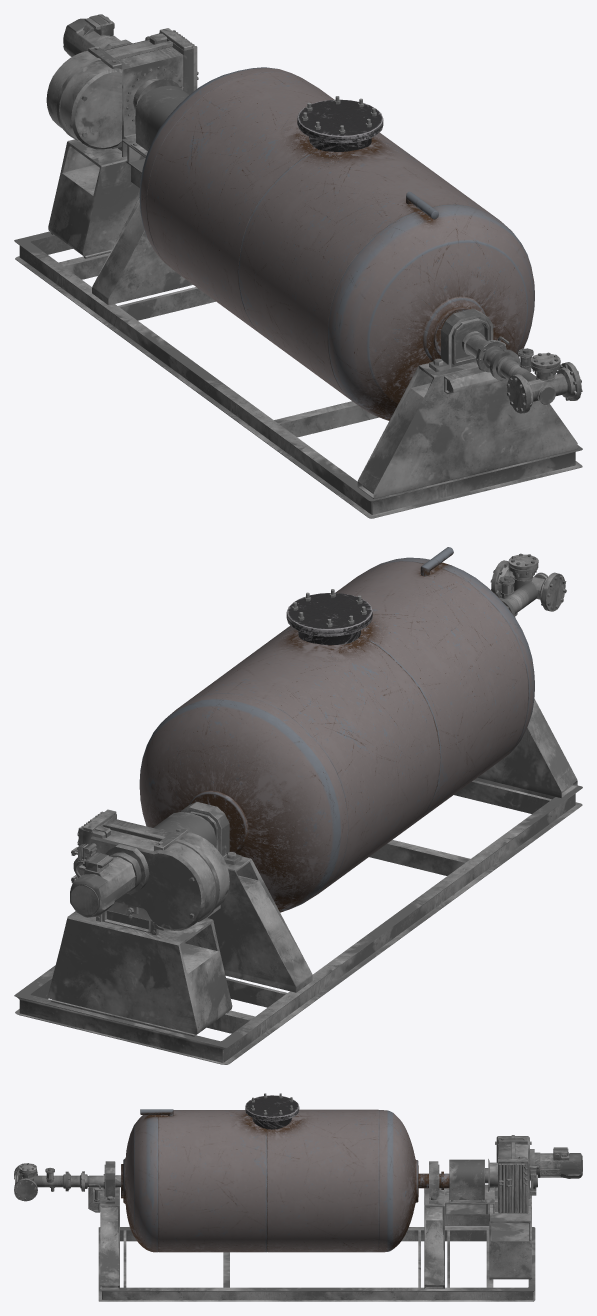
Rendered from Автоклав 1.fbx.
3 views of the same model, one above another, from view 1: azimuth 30°, elevation 25°; view 2: azimuth 150°, elevation 25°; view 3: azimuth 270°, elevation 25° (orthographic). The views are drawn at different scales.
Parts seen in each view (by area): view 1: 2, 1, 3; view 2: 2, 1, 3; view 3: 2, 1, 3.
Boxes of the visible parts, left/top/right/bottom form: 2: left=139, top=67, right=534, bottom=420; 1: left=14, top=14, right=582, bottom=518; 3: left=297, top=99, right=383, bottom=151; 2: left=139, top=547, right=534, bottom=912; 1: left=14, top=553, right=582, bottom=1064; 3: left=286, top=593, right=372, bottom=645; 2: left=121, top=1109, right=449, bottom=1252; 1: left=14, top=1135, right=582, bottom=1301; 3: left=245, top=1095, right=299, bottom=1129.
Size of the model in its own units: 67.76 by 83.87 by 255.
